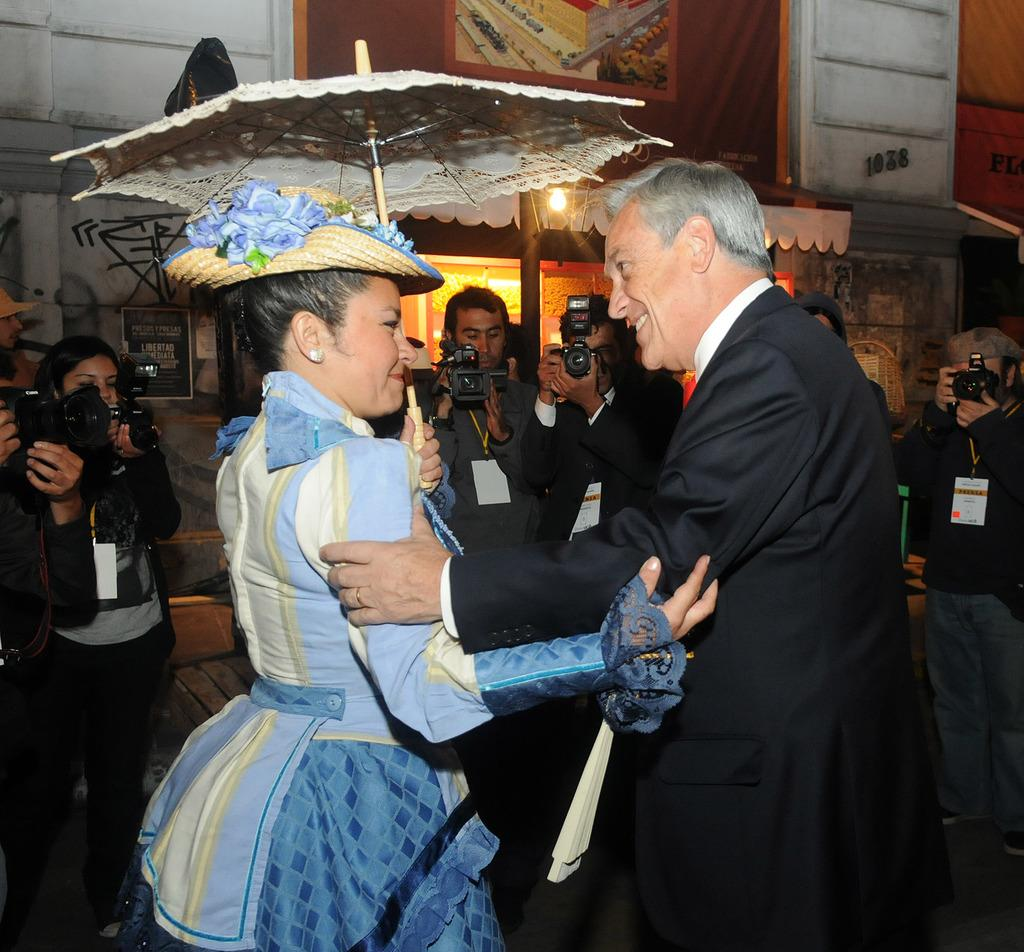Hat: (156, 180, 442, 294)
